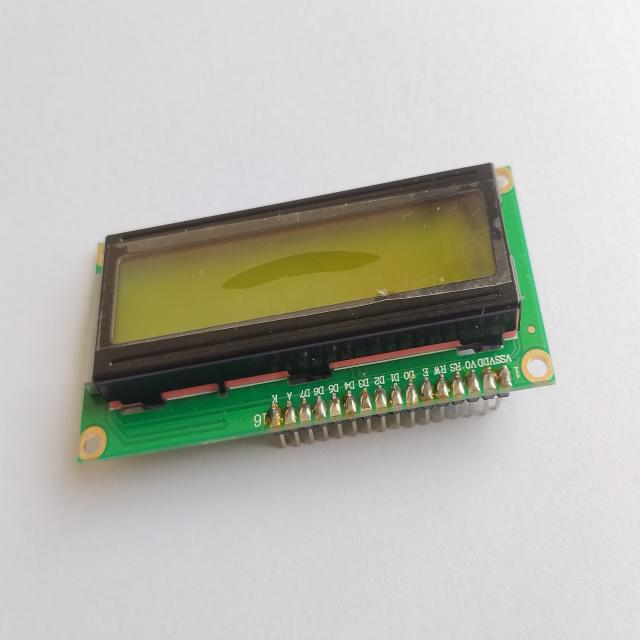lcd: (76, 160, 556, 464)
